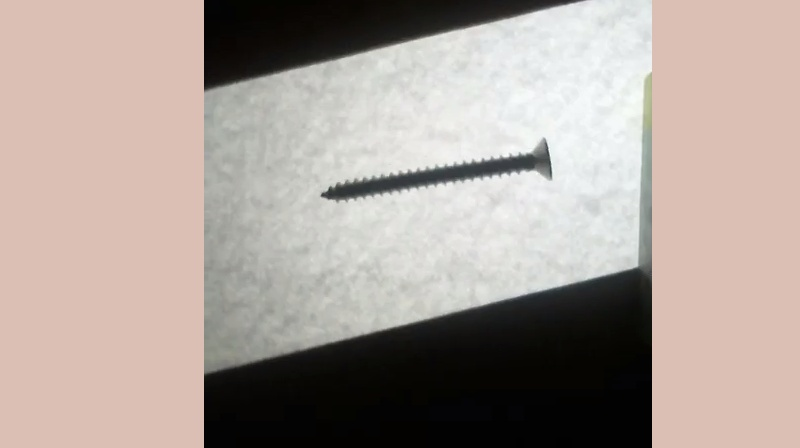S002: (319, 135, 556, 204)
